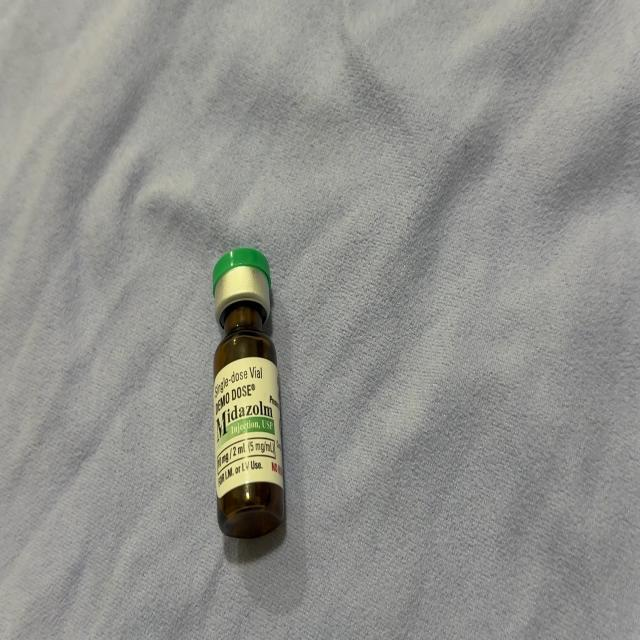midazolm: (214, 253, 284, 535)
